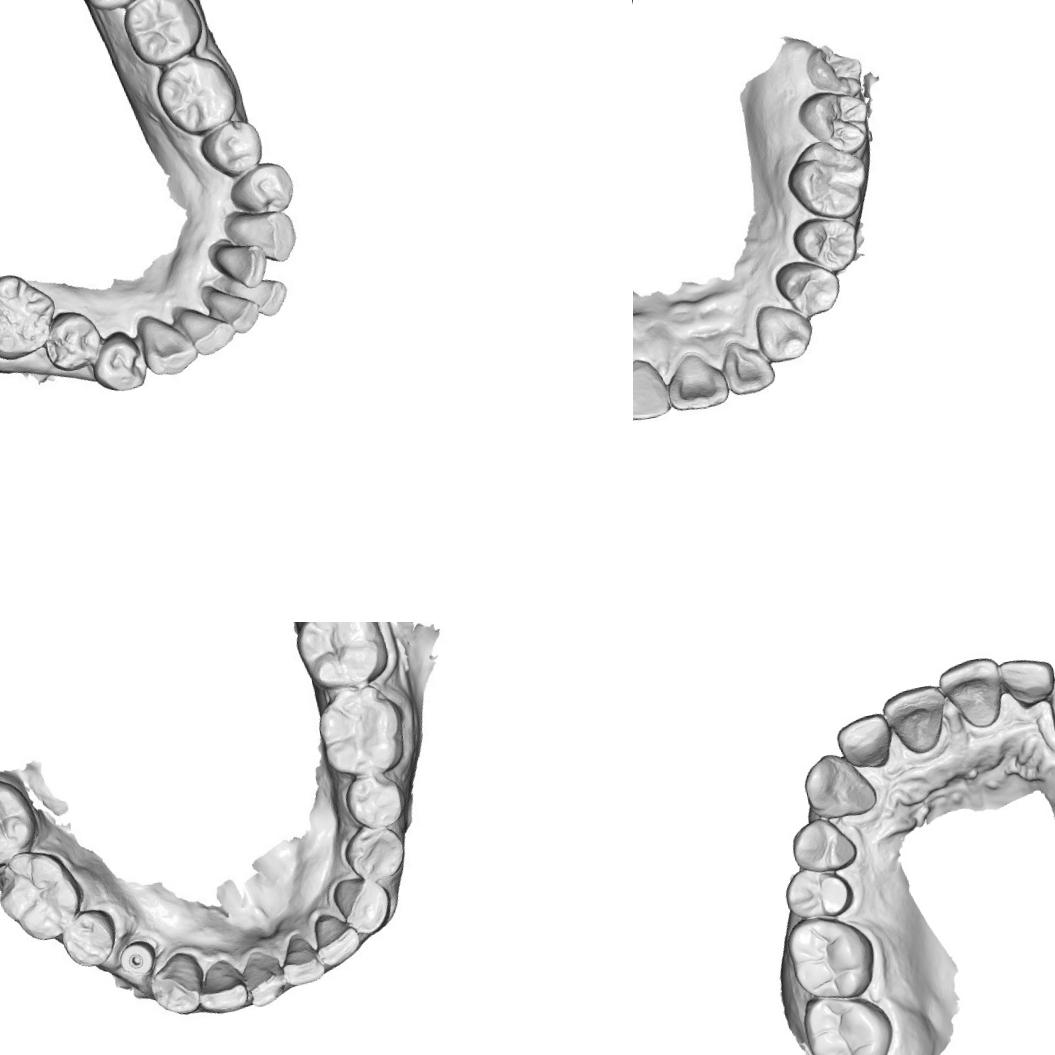canine: (792, 744, 882, 828), (222, 200, 299, 269), (142, 946, 209, 1022), (750, 296, 816, 367), (331, 872, 395, 940), (138, 309, 196, 379)
implant: (115, 937, 156, 978)
incisor: (933, 650, 1011, 736), (878, 680, 952, 761), (658, 352, 734, 418), (830, 708, 900, 776), (216, 264, 291, 326), (715, 334, 779, 399), (993, 650, 1055, 714), (206, 274, 265, 339), (205, 236, 269, 295), (194, 958, 251, 1019), (311, 906, 364, 970), (239, 950, 291, 1009), (276, 933, 328, 989), (179, 302, 228, 361), (633, 362, 674, 429)
molar: (779, 908, 883, 1009), (310, 682, 409, 781), (778, 134, 878, 228), (148, 47, 241, 142), (0, 849, 86, 948), (795, 982, 902, 1055), (291, 622, 389, 694), (792, 83, 876, 160), (118, 0, 206, 69), (0, 269, 61, 365), (0, 774, 41, 869)
premolar: (770, 252, 848, 324), (776, 858, 857, 927), (788, 210, 864, 280), (786, 812, 861, 881), (196, 114, 268, 182), (337, 768, 410, 835), (339, 821, 408, 890), (38, 303, 104, 374), (224, 157, 296, 220), (86, 326, 148, 396), (56, 906, 119, 972)
